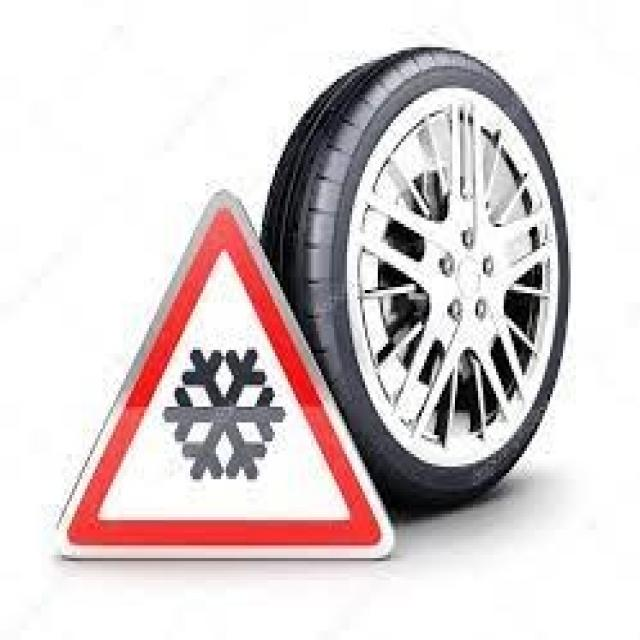snow_warning: (40, 180, 397, 569)
